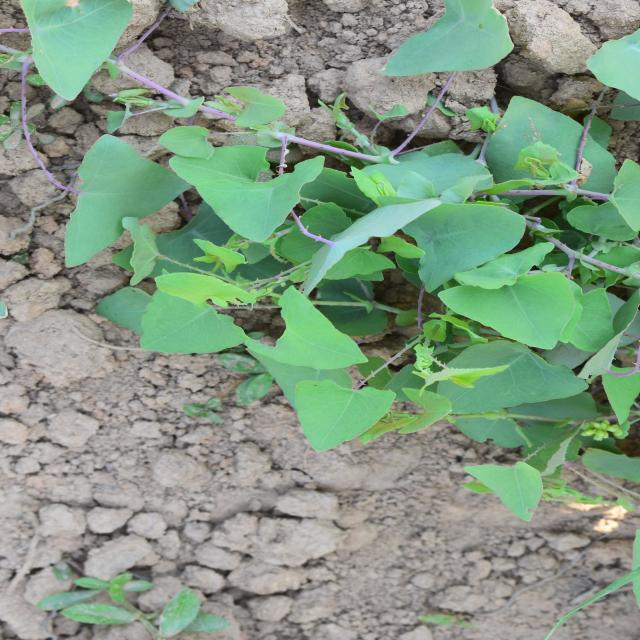Asiatic_Smartweed: (362, 52, 504, 368), (281, 386, 479, 600), (178, 237, 359, 429), (531, 8, 640, 143), (569, 376, 637, 524)
